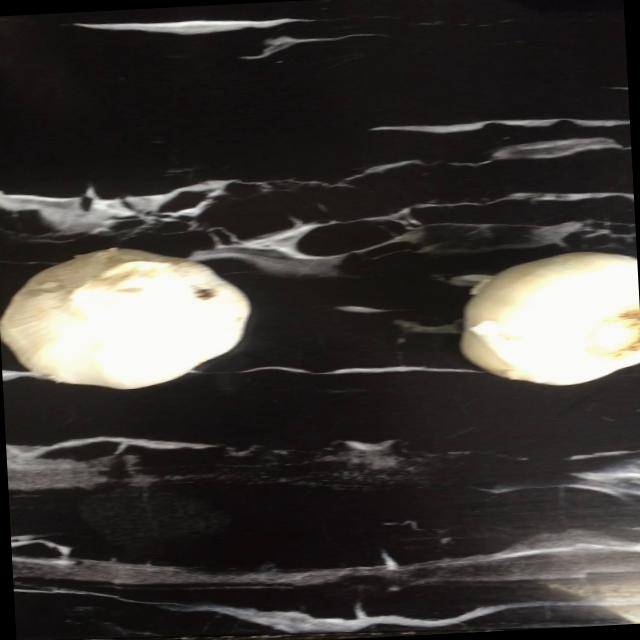garlic: (0, 235, 263, 398), (447, 239, 640, 394)
